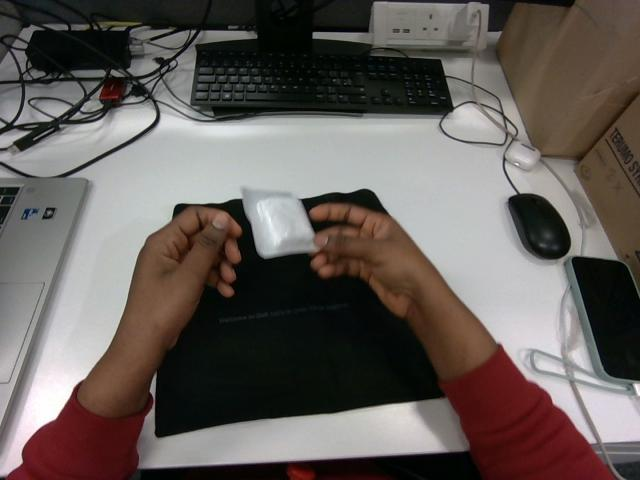gauze: (242, 188, 317, 258)
